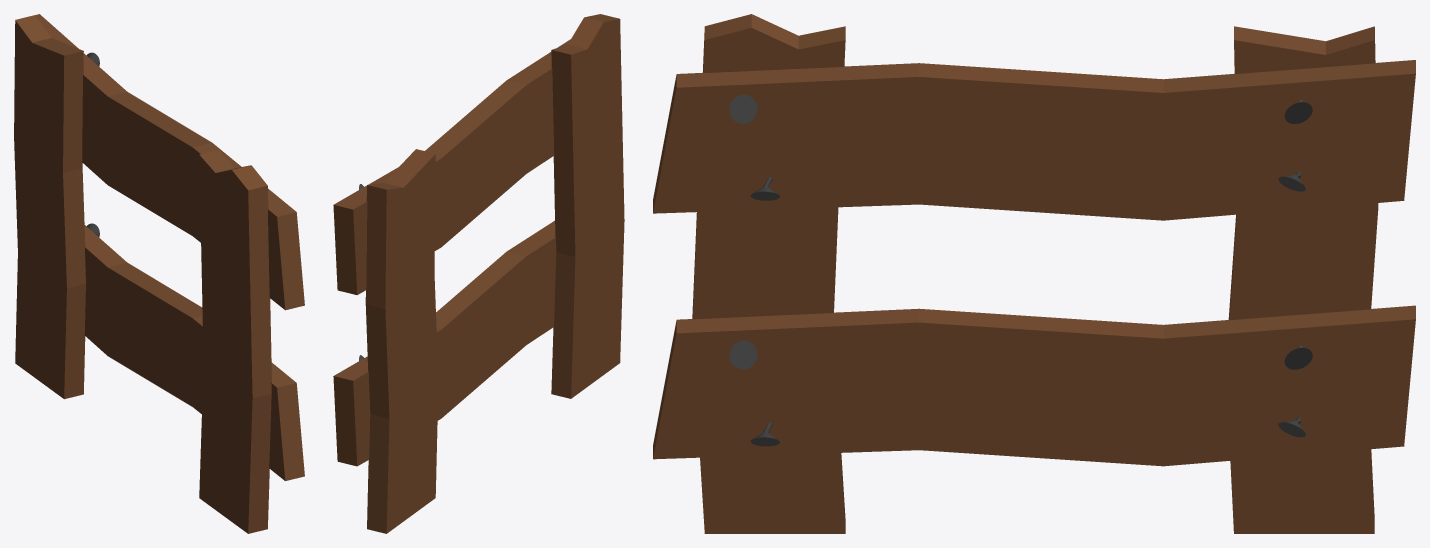
Rendered from Zabor.fbx.
The picture shows the model from 3 angles, left to right: view 1: azimuth 30°, elevation 25°; view 2: azimuth 150°, elevation 25°; view 3: azimuth 270°, elevation 25°; orthographic projection. The views are drawn at different scales.
Parts seen in each view (by area): view 1: Zabor1; view 2: Zabor1; view 3: Zabor1.
Part boxes in pixels (<box>): Zabor1: <box>14,14,304,533</box>; Zabor1: <box>333,14,624,533</box>; Zabor1: <box>653,14,1415,533</box>.
Bounding box in the file's own units: 32.39 × 186 × 254.
